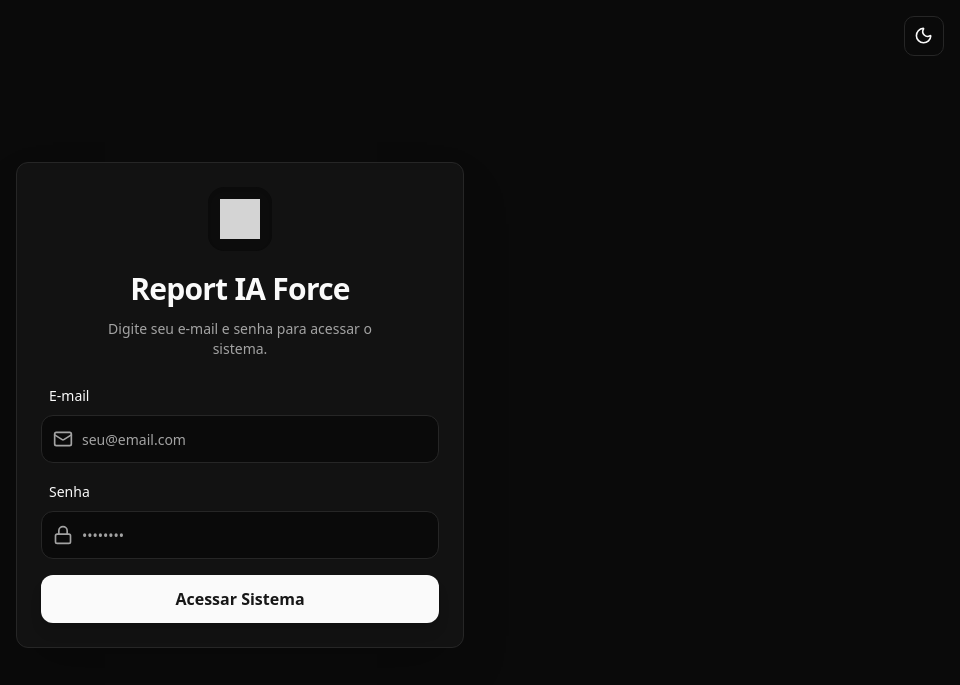
Test case: Login Component › exibe erro quando API retorna 401
This screenshot has width=960, height=685.
Type "admin@teste.com" into the field with placeholder "seu@email.com".
click(240, 439); type("admin@teste.com")  # box top-left (41, 415), bottom-right (439, 463)
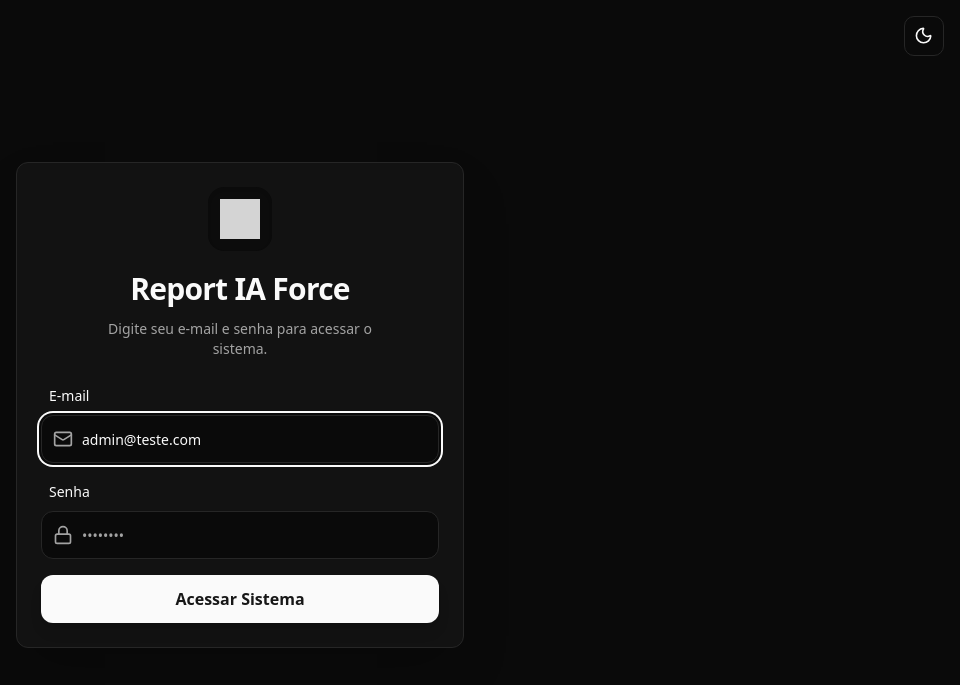
Type "senhaerrada" into the password field with placeholder "••••••••".
click(240, 535); type("senhaerrada")  # box top-left (41, 511), bottom-right (439, 559)
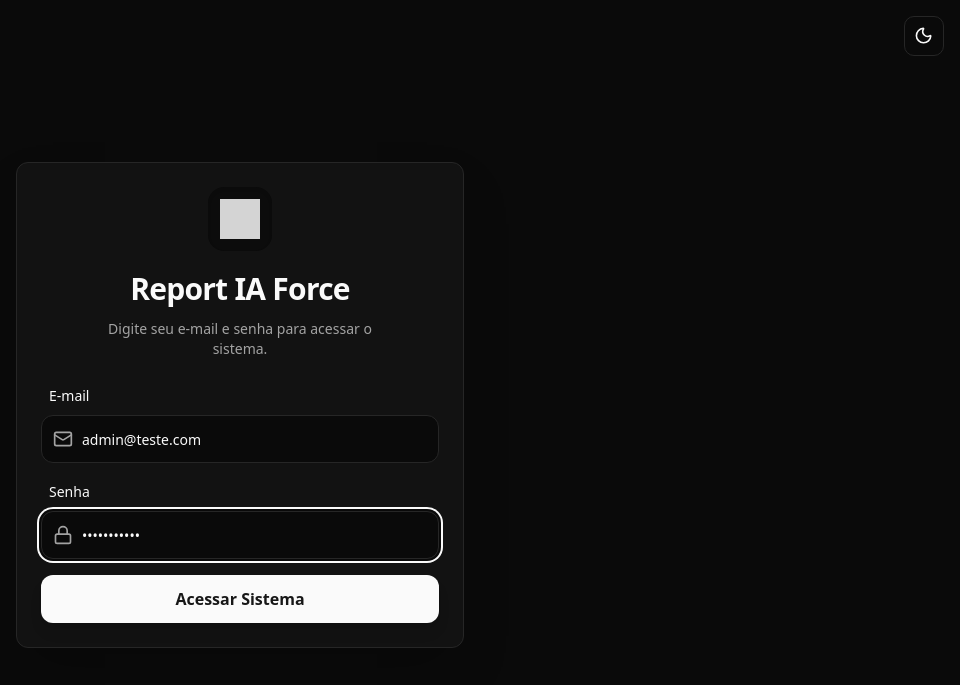
Click the button "Acessar Sistema".
click(240, 599)  # box top-left (41, 575), bottom-right (439, 623)
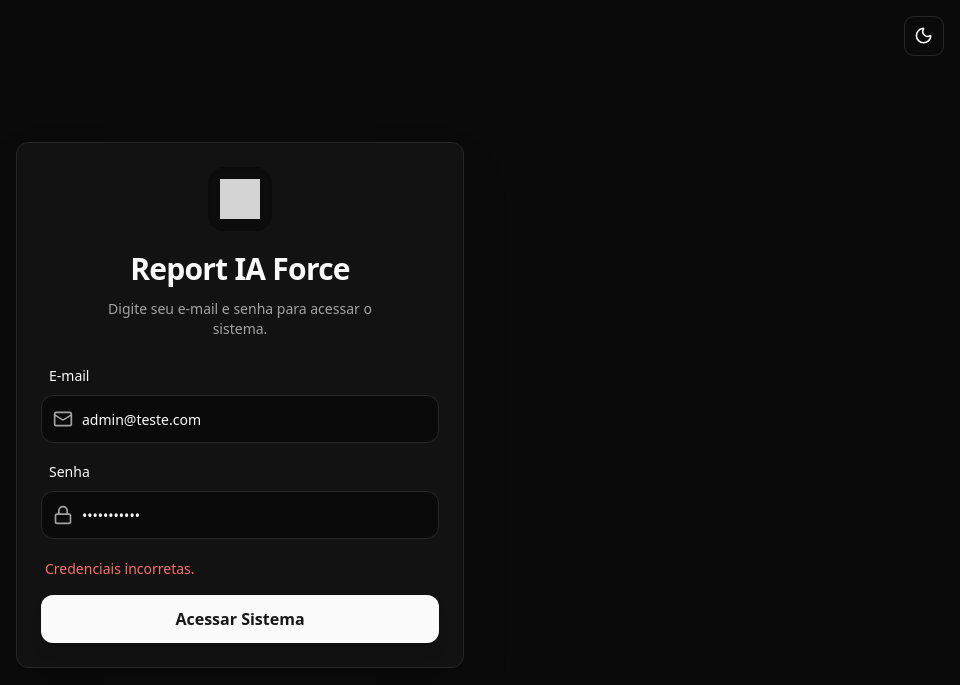
Expected: the text "Credenciais incorretas." is shown, top-left (45, 559), bottom-right (195, 578)
